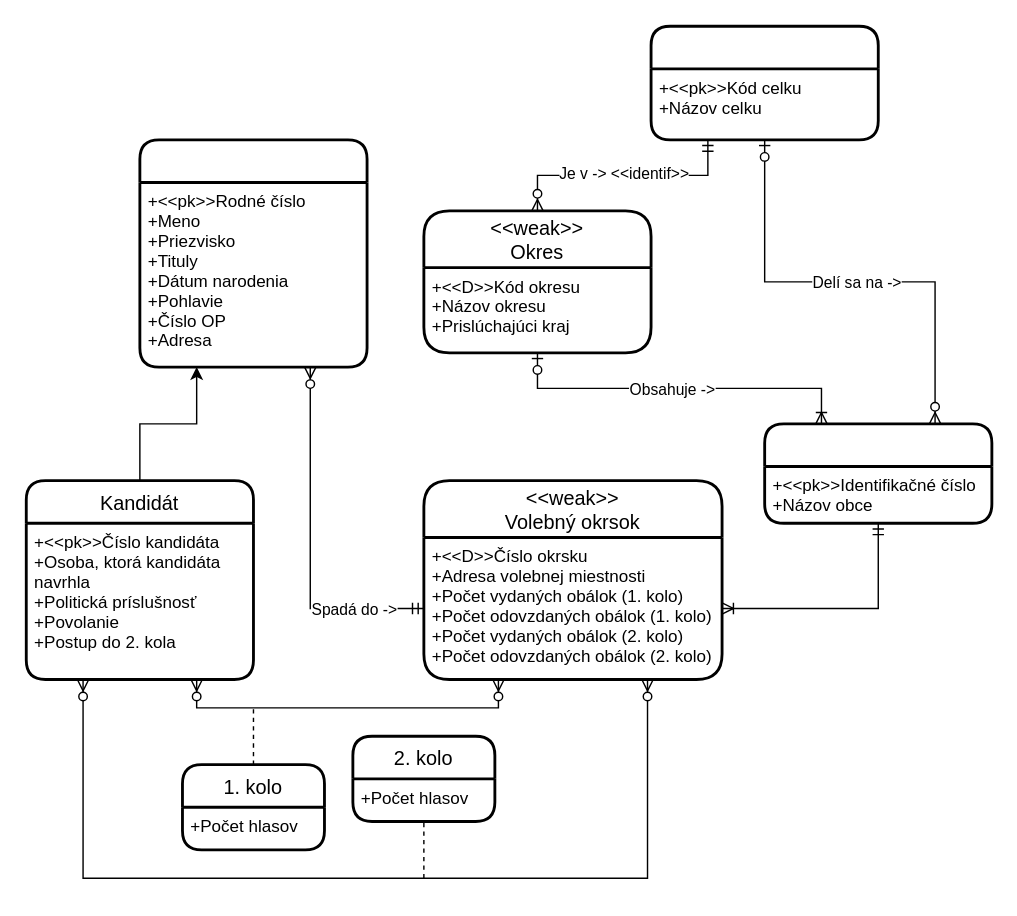
Some shapes in this 1017 by 916 pixel diagram are drawn without their labels. The box of each missing label's shape, as (x1, y1, x2, y2) in pixels:
Obec: (763, 422, 993, 524)
Občan: (138, 138, 368, 368)
Územný celok: (649, 24, 879, 141)
